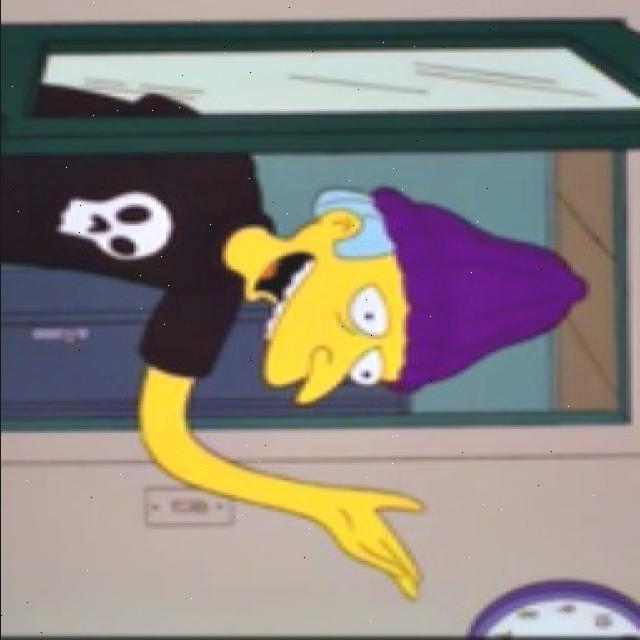Charles Montgomery Burns: (218, 178, 412, 412)
